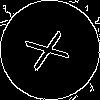X: (25, 25, 79, 72)
